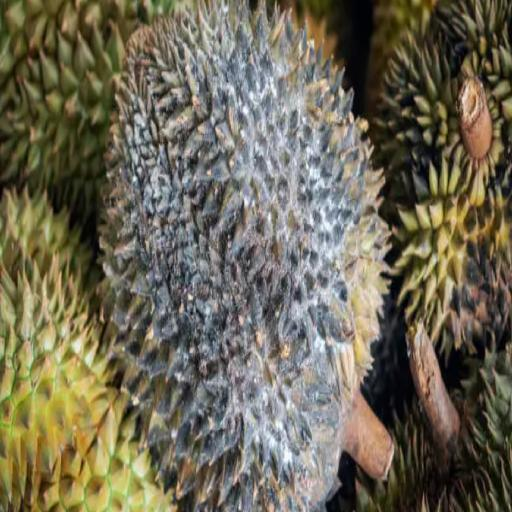mold: (100, 12, 372, 511)
rot: (411, 407, 506, 498), (443, 242, 511, 358), (385, 63, 432, 204), (436, 12, 468, 74)
